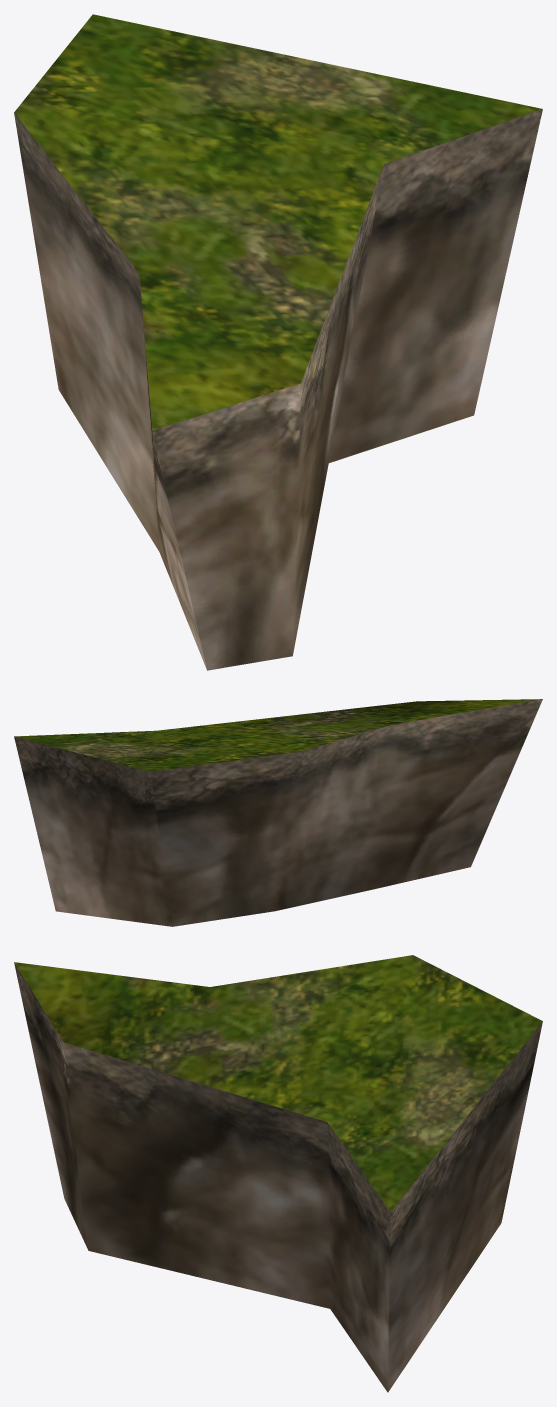
The model's file is ANIMATEDINSTANCES_OH_ROCKFALL_201__AI.fbx.
The picture shows the model from 3 angles, top to bottom: view 1: azimuth 30°, elevation 25°; view 2: azimuth 150°, elevation 25°; view 3: azimuth 270°, elevation 25°; orthographic projection. The views are drawn at different scales.
Visible parts, largest first — view 1: ANIMATEDINSTANCES_OH_ROCKFALL_201__AI; view 2: ANIMATEDINSTANCES_OH_ROCKFALL_201__AI; view 3: ANIMATEDINSTANCES_OH_ROCKFALL_201__AI.
Boxes of the visible parts, x1,y1,x2,y2 form: ANIMATEDINSTANCES_OH_ROCKFALL_201__AI: (14, 14, 542, 670); ANIMATEDINSTANCES_OH_ROCKFALL_201__AI: (14, 699, 542, 926); ANIMATEDINSTANCES_OH_ROCKFALL_201__AI: (14, 955, 542, 1392).
Bounding box in the file's own units: 12372 × 7188 × 12141.
2 materials, 2 textured.
